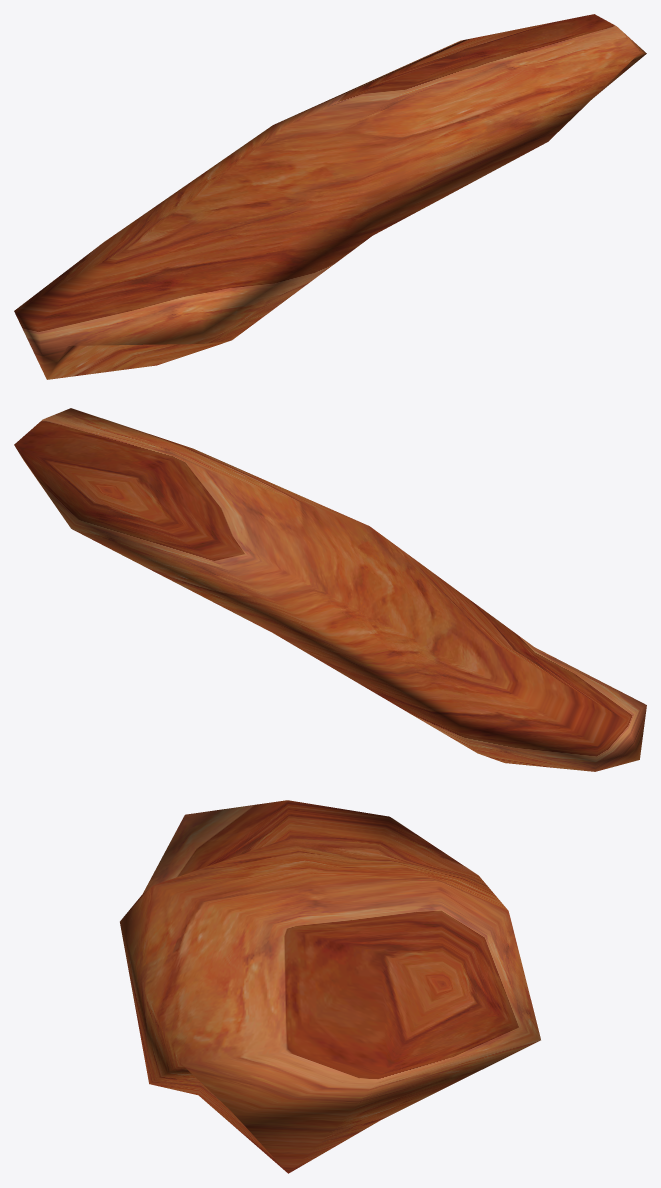
File: durotarrock02.obj
3 views of the same model, one above another, from view 1: azimuth 30°, elevation 25°; view 2: azimuth 150°, elevation 25°; view 3: azimuth 270°, elevation 25° (orthographic). The views are drawn at different scales.
Parts seen in each view (by area): view 1: DurotarRock02; view 2: DurotarRock02; view 3: DurotarRock02.
Part boxes in pixels (<box>): DurotarRock02: <box>14,14,646,379</box>; DurotarRock02: <box>14,408,646,771</box>; DurotarRock02: <box>120,800,540,1173</box>.
Bounding box in the file's own units: 33.37 × 12.14 × 10.17.
1 material, 1 textured.
